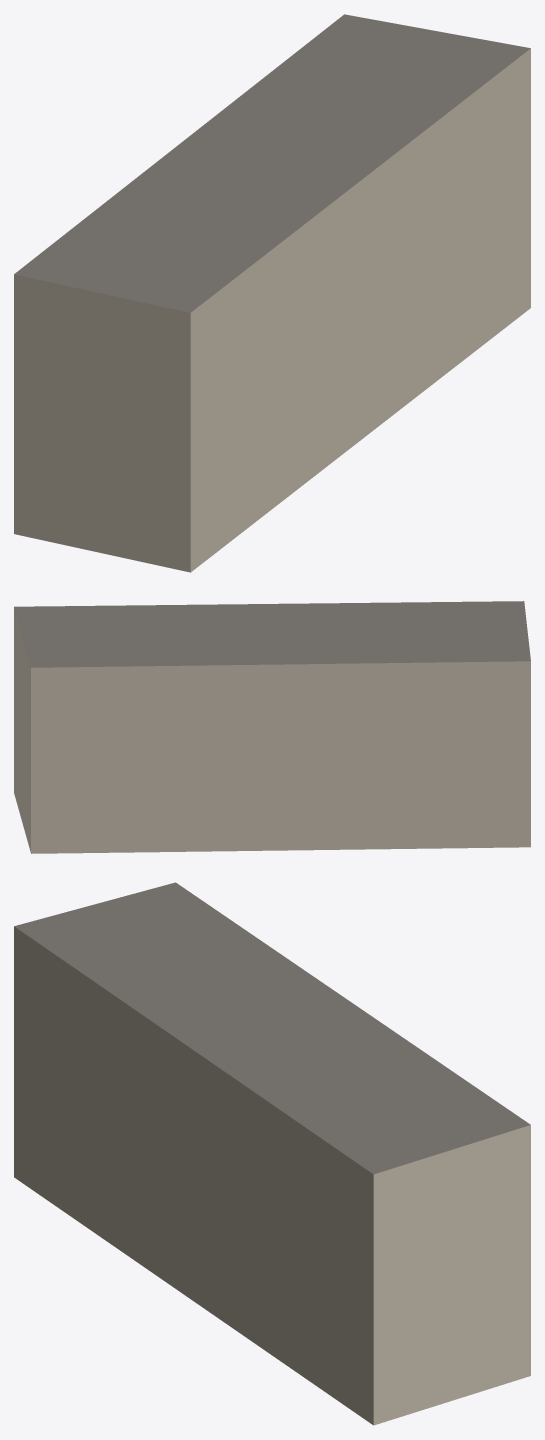
3 views of the same model, one above another, from view 1: azimuth 30°, elevation 25°; view 2: azimuth 150°, elevation 25°; view 3: azimuth 270°, elevation 25° (orthographic). The views are drawn at different scales.
Visible parts, largest first — view 1: HP-w505633367; view 2: HP-w505633367; view 3: HP-w505633367.
Part boxes in pixels (x1,y1,x2,y2): HP-w505633367: (14,14,530,572); HP-w505633367: (14,601,530,853); HP-w505633367: (14,882,530,1425).
Bounding box in the file's own units: 44.92 × 18 × 33.59.
